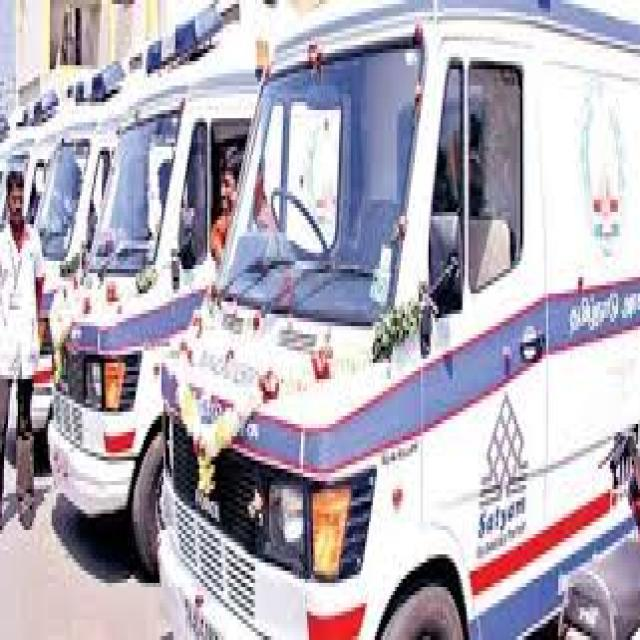ambulance: (160, 17, 640, 640), (55, 18, 174, 585)
